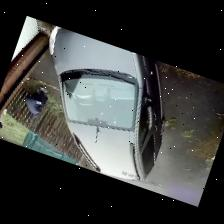person: (26, 87, 48, 119)
